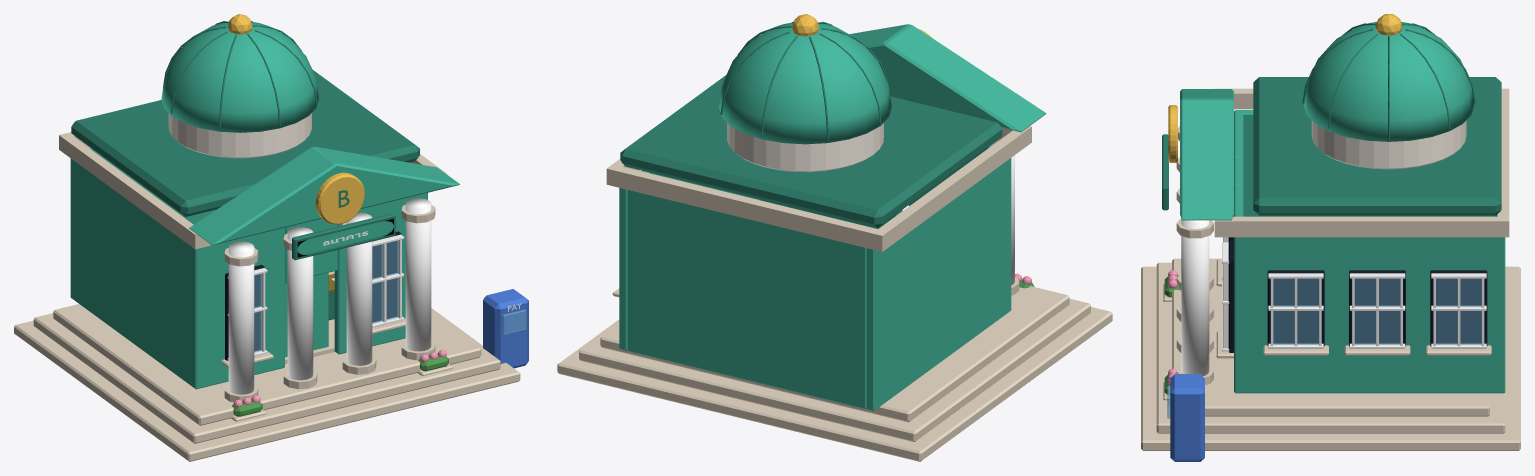
The model's file is town-bank.glb.
3 renders of one model, left to right at view 1: azimuth 30°, elevation 25°; view 2: azimuth 150°, elevation 25°; view 3: azimuth 270°, elevation 25°, orthographic. The views are drawn at different scales.
Visible parts, largest first — view 1: BODY_Bank, ROOF_GEOMETRY_Bank; view 2: BODY_Bank, ROOF_GEOMETRY_Bank; view 3: BODY_Bank, ROOF_GEOMETRY_Bank.
Boxes of the visible parts, x1,y1,x2,y2 form: BODY_Bank: (14,132,528,461); ROOF_GEOMETRY_Bank: (71,14,459,245); BODY_Bank: (557,126,1112,461); ROOF_GEOMETRY_Bank: (620,14,1046,227); BODY_Bank: (1141,88,1520,461); ROOF_GEOMETRY_Bank: (1168,14,1501,220).
Bounding box in the file's own units: 11.45 × 9.95 × 9.8.
Materials: 16 (1 with a texture image).
